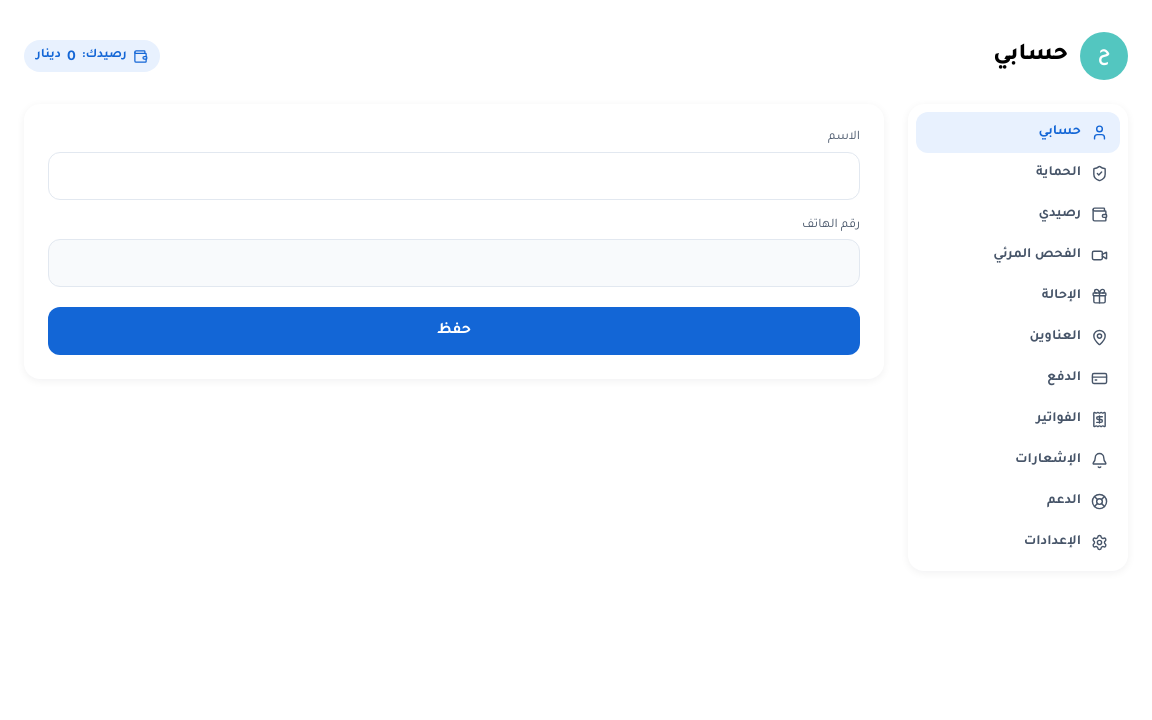
Test: Account › shows the FAQ accordion and a WhatsApp link under the support tab
Click the tab "الدعم": [1018, 502] box [916,481,1120,522]
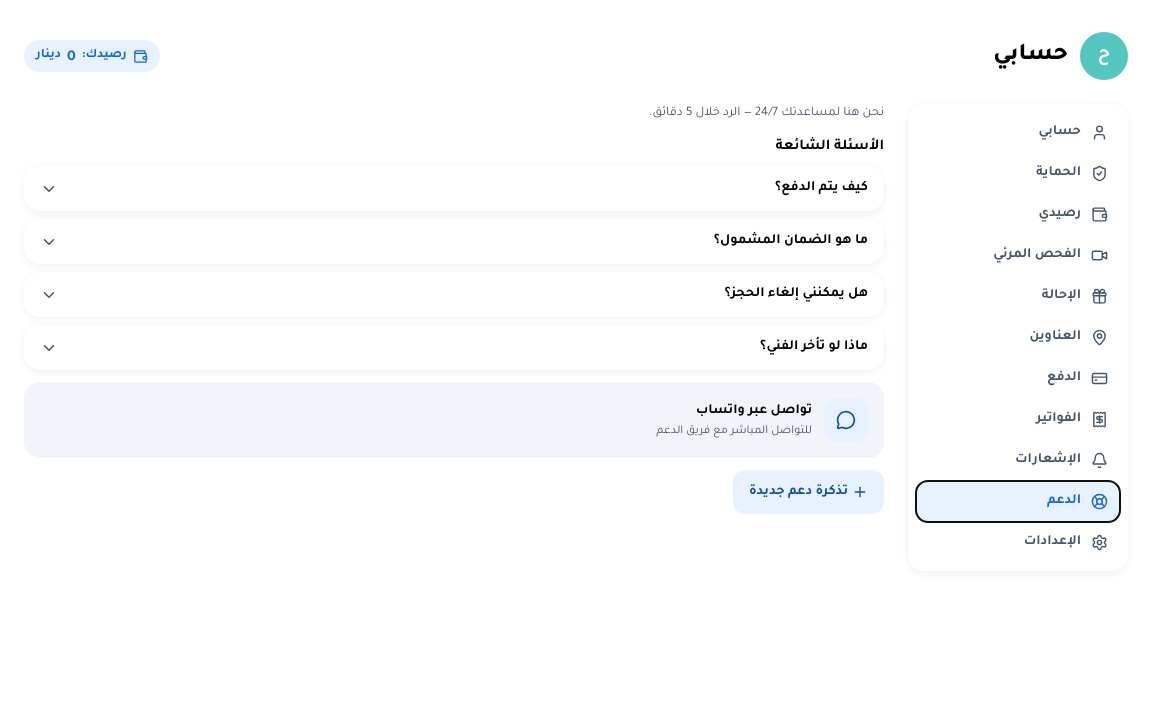
Result: the heading "الأسئلة الشائعة" is shown at [776,138,884,154]
Result: the button "كيف يتم الدفع؟" is shown at [24,166,884,211]
